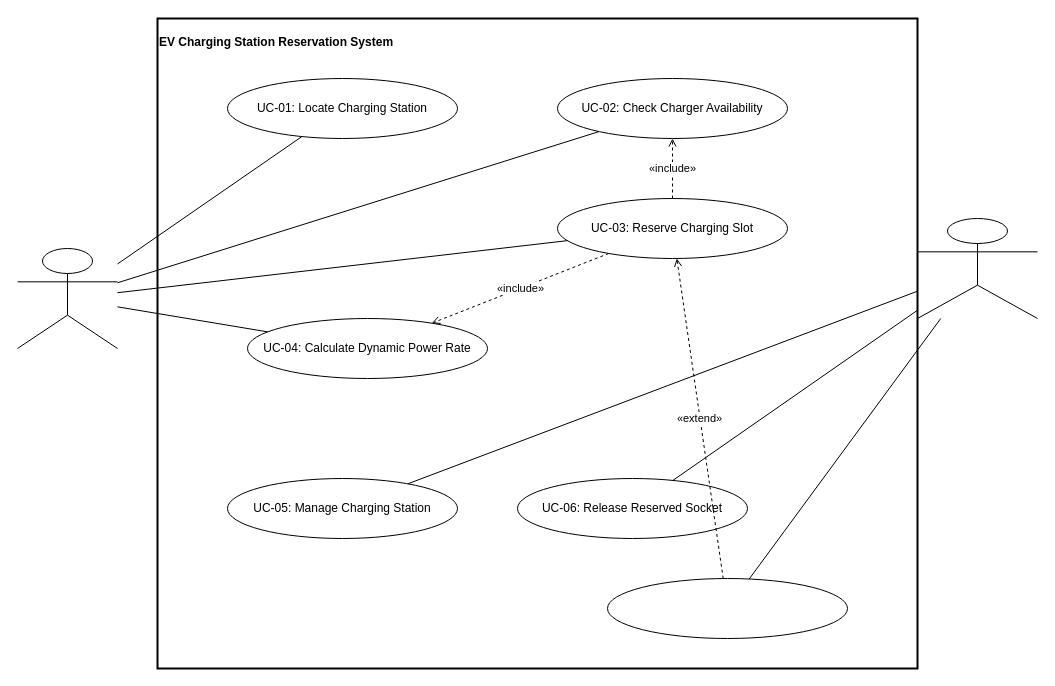
Image size: 1055x686. Some labels were removed from this diagram. Each missing label, with the centre of its shape:
EV Driver: point (67, 298)
Station Operator: point (977, 268)
UC-07: Apply No-Show Penalty: point (727, 608)
